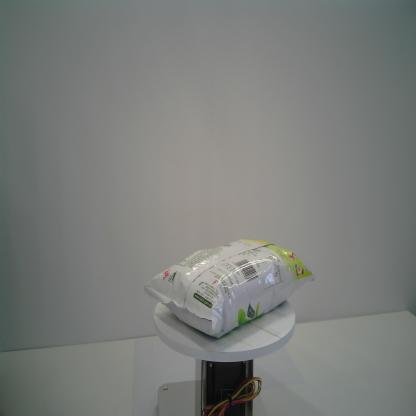Puffed Food: (144, 238, 315, 339)
